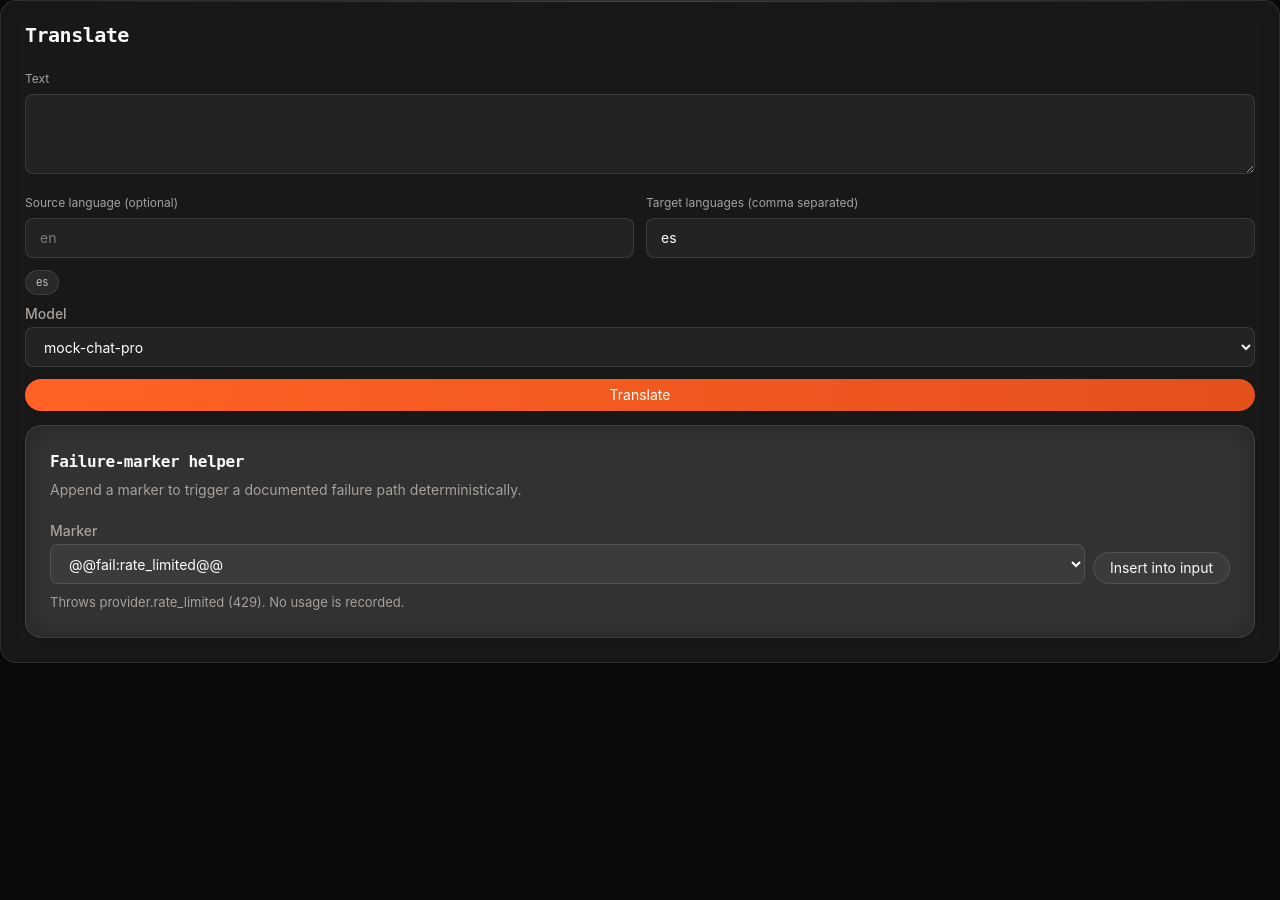
Scenario: TranslateCard › renders the error envelope on a rejection
The image size is (1280, 900).
In the text box labelled "Text": {"x": 640, "y": 134} [25,94,1255,174], type "hello"
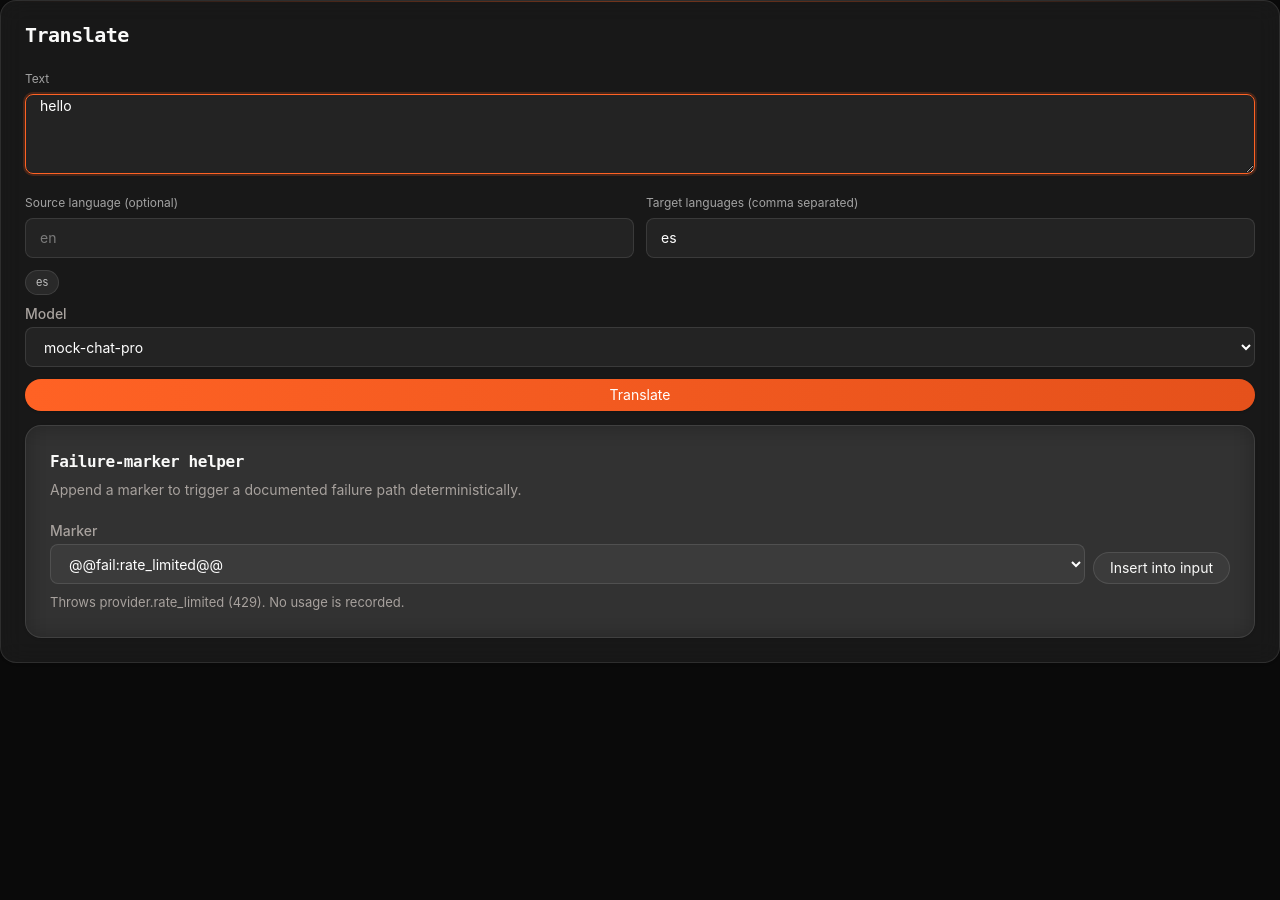
Click the button "Translate": {"x": 640, "y": 395} [25,379,1255,411]
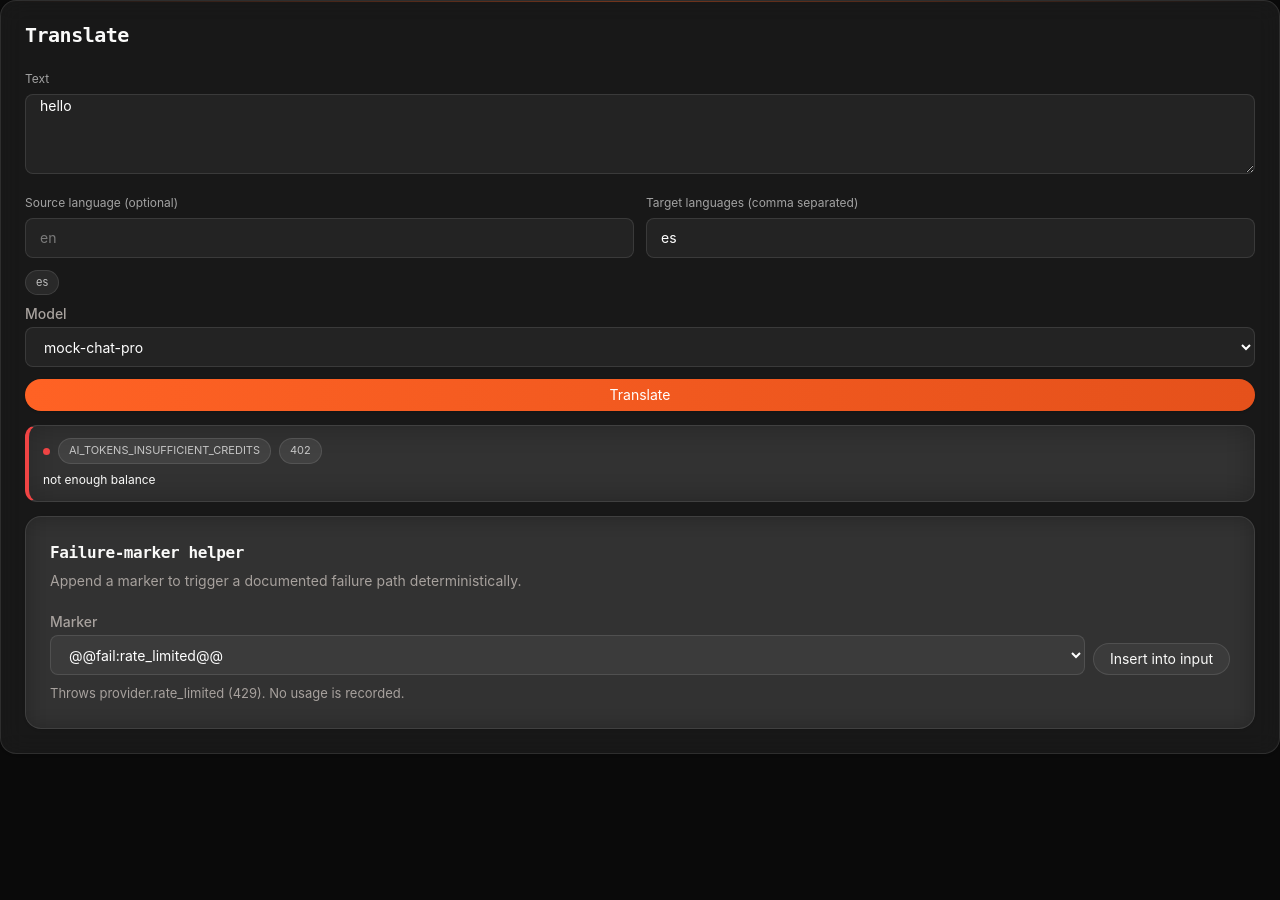
expect the message shows "not enough balance": met, box [43,472,156,487]
